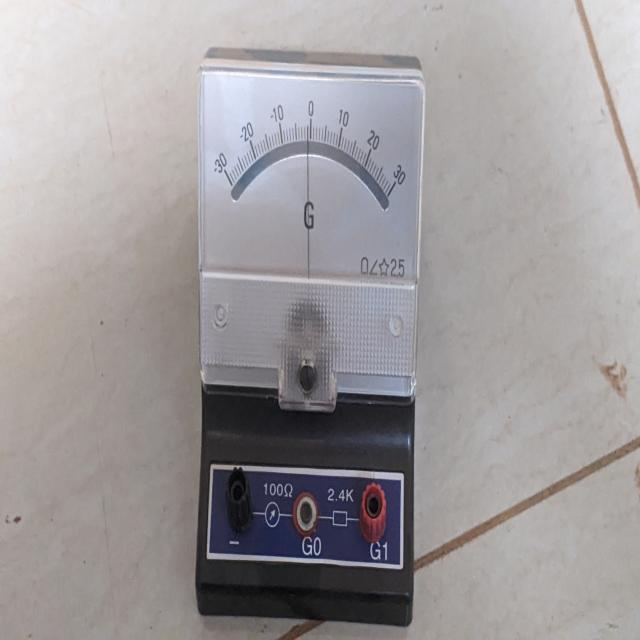Galvanometer: (183, 42, 441, 640)
